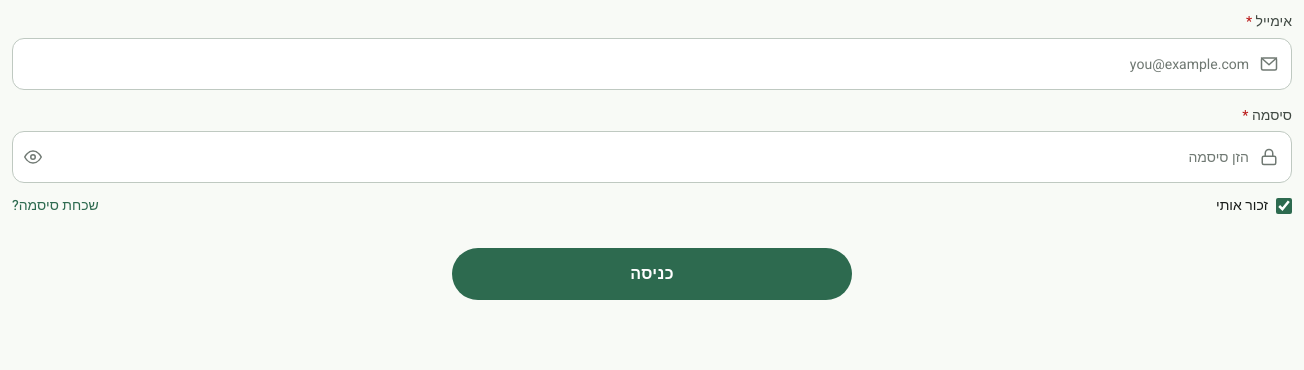
Test: AuthForm › blocks submit and shows validation errors when empty
The width and height of the screenshot is (1304, 370).
Click the button "כניסה" at (652,274), box [452,248,852,300]
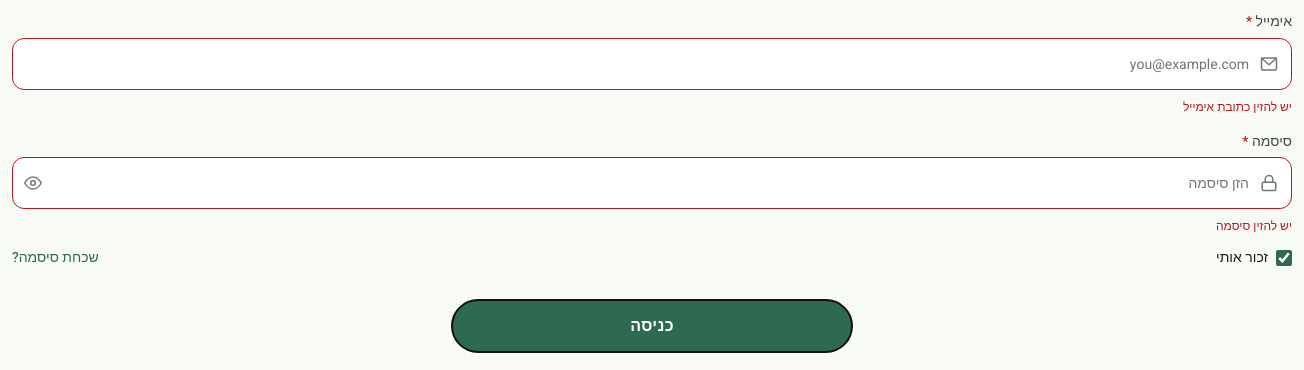
Expected: the text "יש להזין כתובת אימייל" is shown, [1183,98,1292,116]
